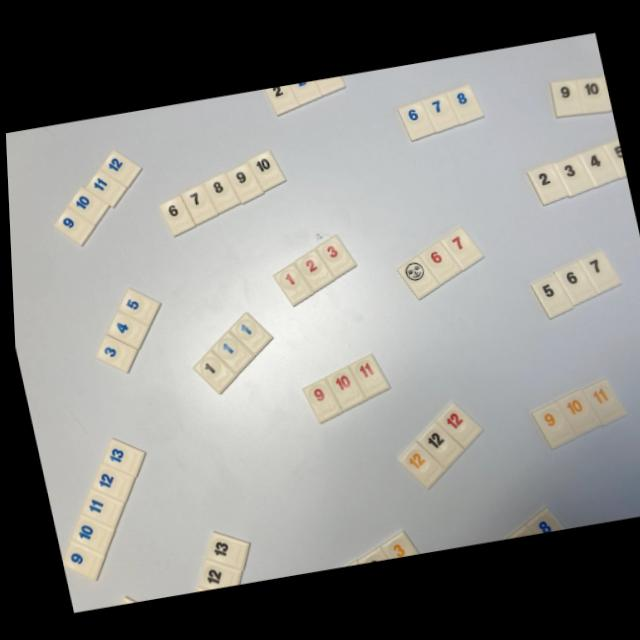black_1: (190, 350, 231, 393)
black_10: (245, 149, 283, 191), (577, 77, 608, 112)
black_12: (413, 421, 460, 468), (193, 559, 237, 589)
black_13: (201, 531, 243, 568)
black_2: (526, 163, 567, 204), (265, 84, 298, 115)
black_3: (551, 154, 592, 196)
black_4: (578, 144, 617, 186)
black_5: (530, 273, 570, 317), (602, 138, 623, 176)
black_6: (553, 260, 594, 304), (157, 195, 193, 236)
black_7: (577, 249, 618, 292), (179, 183, 216, 224)
black_8: (201, 172, 237, 213)
black_9: (224, 162, 262, 203), (550, 79, 581, 116)
blue_1: (228, 311, 268, 353), (209, 331, 249, 373)
blue_10: (66, 515, 109, 555), (66, 186, 106, 223)
blue_11: (77, 489, 119, 528), (84, 169, 124, 207)
blue_12: (87, 464, 130, 501), (98, 149, 140, 186)
blue_13: (97, 438, 141, 477)
blue_2: (290, 80, 321, 105)
blue_3: (93, 335, 134, 371)
blue_4: (104, 310, 146, 348)
blue_5: (116, 287, 157, 324)
blue_6: (397, 100, 434, 140)
blue_7: (422, 93, 457, 131)
blue_8: (445, 83, 482, 123), (521, 507, 558, 533)
blue_9: (58, 540, 99, 581), (51, 207, 93, 245)
joker: (395, 254, 436, 298)
orange_10: (553, 388, 596, 435)
orange_11: (579, 378, 623, 424)
orange_12: (394, 441, 441, 489)
orange_3: (376, 530, 413, 558)
orange_9: (528, 400, 572, 448)
red_1: (271, 263, 310, 305)
red_10: (323, 366, 362, 410)
red_11: (346, 353, 387, 398)
red_12: (432, 401, 478, 448)
red_2: (292, 248, 331, 291)
red_3: (313, 235, 353, 277)
red_6: (417, 240, 458, 283)
red_7: (441, 226, 481, 269)
red_9: (299, 378, 338, 423)
